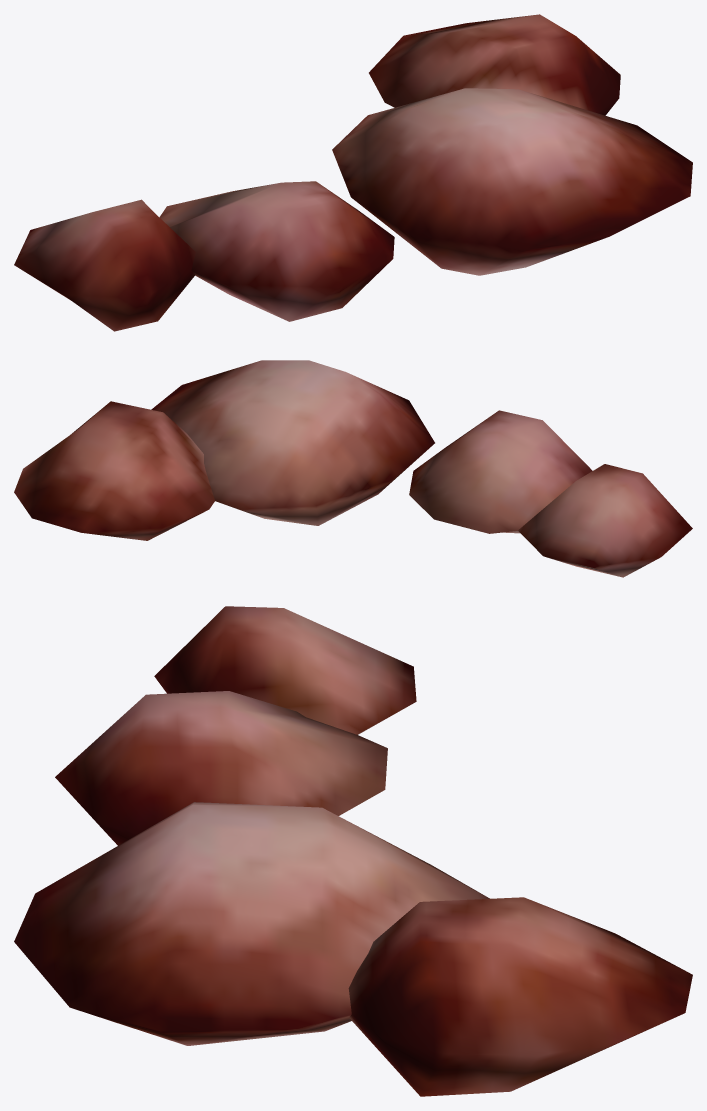
Rendered from brain_chunk_04.dae.
The picture shows the model from 3 angles, top to bottom: view 1: azimuth 30°, elevation 25°; view 2: azimuth 150°, elevation 25°; view 3: azimuth 270°, elevation 25°; orthographic projection. The views are drawn at different scales.
Parts seen in each view (by area): view 1: chunk_04; view 2: chunk_04; view 3: chunk_04.
Boxes of the visible parts, bbox=[...] form: chunk_04: bbox=[14, 14, 692, 331]; chunk_04: bbox=[14, 360, 692, 577]; chunk_04: bbox=[14, 606, 692, 1096].
Size of the model in its own units: 0.1511 by 0.0328 by 0.1033.
